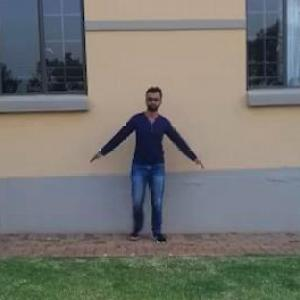land: (91, 90, 199, 255)
